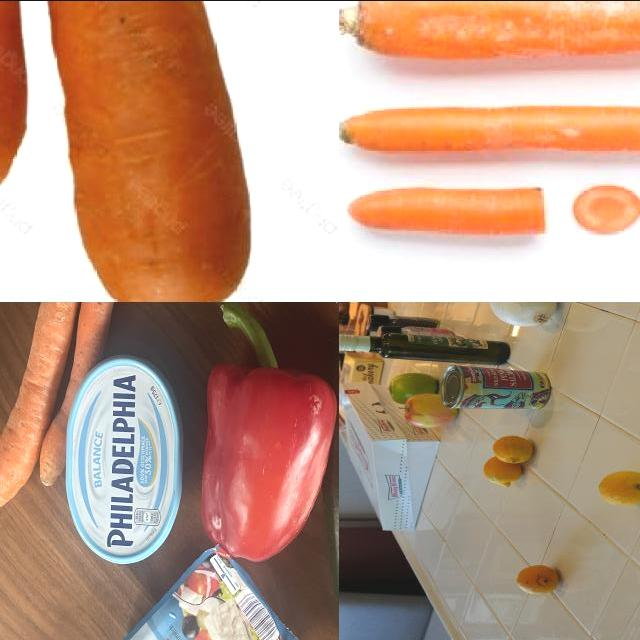bell_pepper: (194, 324, 338, 558), (369, 313, 441, 330)
carrot: (28, 1, 256, 302), (1, 302, 134, 518), (340, 1, 640, 71), (340, 96, 640, 161), (340, 177, 566, 242)
onion: (487, 302, 564, 329)
